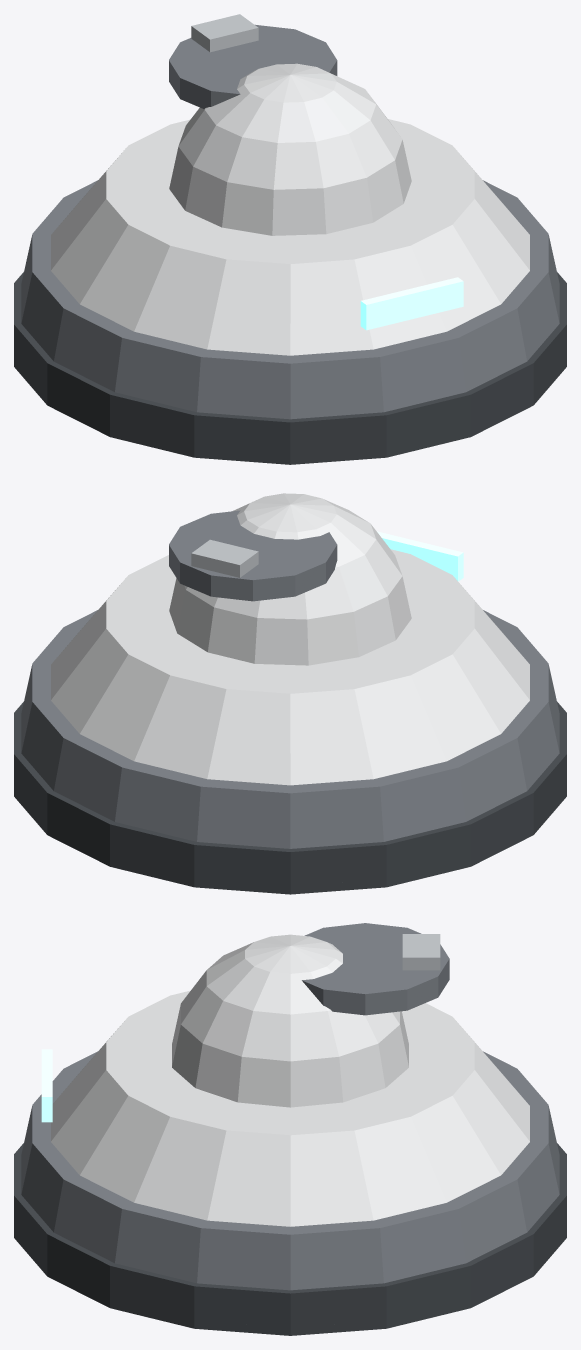
The model's file is vacuum-bot.glb.
3 renders of one model, top to bottom at view 1: azimuth 30°, elevation 25°; view 2: azimuth 150°, elevation 25°; view 3: azimuth 270°, elevation 25°, orthographic.
Parts seen in each view (by area): view 1: vacuum-bot, lid/graphite, lid/steel; view 2: vacuum-bot, lid/graphite, lid/steel; view 3: vacuum-bot, lid/graphite, lid/steel.
Boxes of the visible parts, x1,y1,x2,y2 form: vacuum-bot: (14, 63, 566, 464); lid/graphite: (169, 24, 337, 108); lid/steel: (191, 14, 258, 52); vacuum-bot: (14, 493, 566, 894); lid/graphite: (169, 510, 337, 601); lid/steel: (191, 539, 258, 577); vacuum-bot: (14, 934, 566, 1335); lid/graphite: (302, 923, 449, 1015); lid/steel: (402, 934, 440, 970).
Size of the model in its own units: 0.6 by 0.34 by 0.5909.
